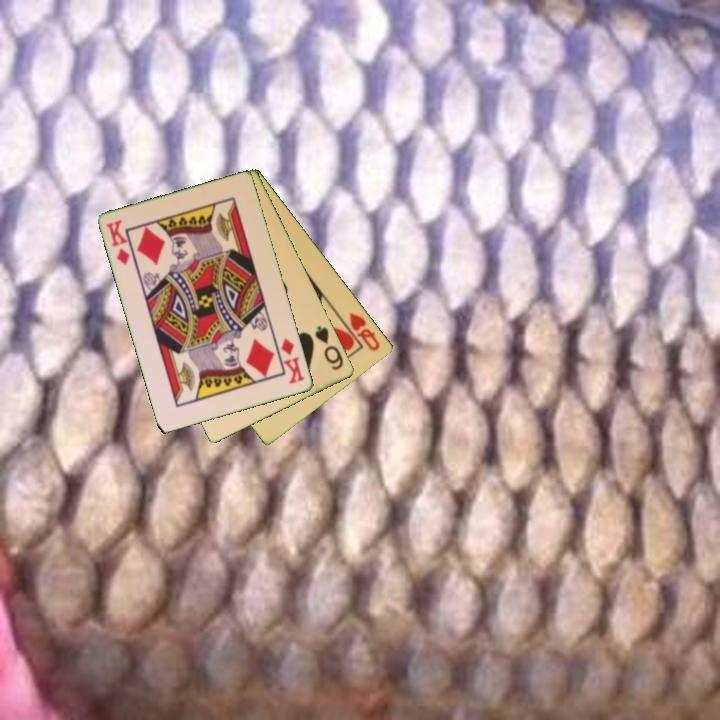6s: (311, 322, 347, 373)
Kd: (278, 335, 308, 387), (103, 217, 133, 269)
Qh: (346, 309, 383, 354)
